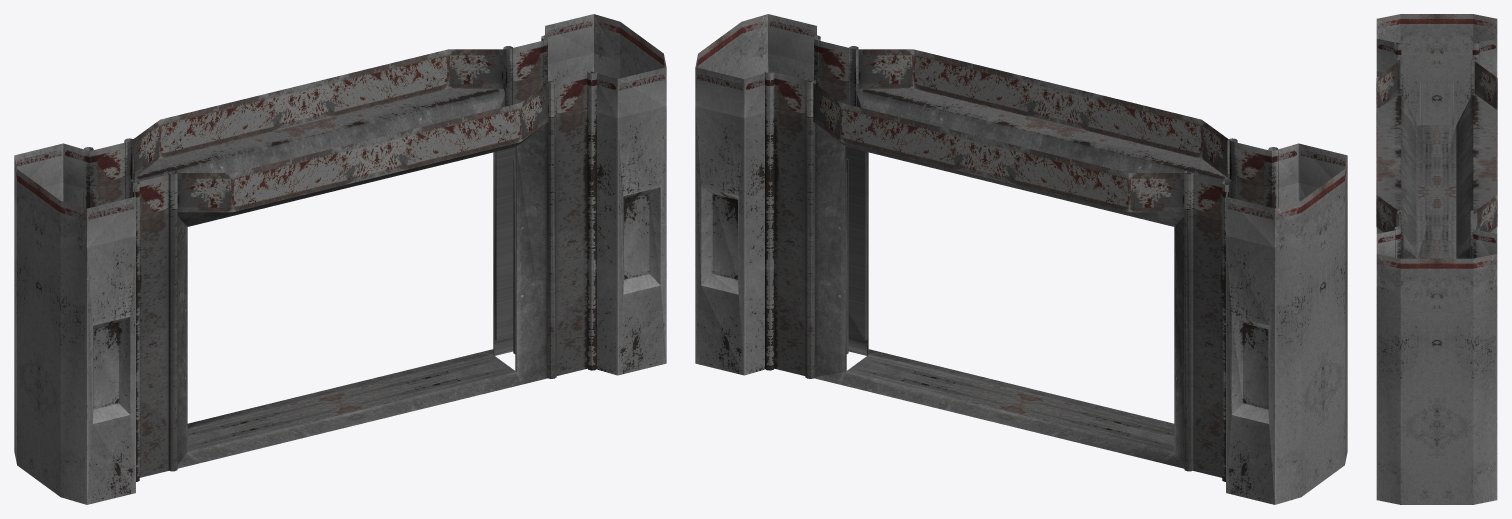
File: Door_Cont.fbx
3 views of the same model, side by side, from view 1: azimuth 30°, elevation 25°; view 2: azimuth 150°, elevation 25°; view 3: azimuth 270°, elevation 25° (orthographic). The views are drawn at different scales.
Visible parts, largest first — view 1: Door_Cont; view 2: Door_Cont; view 3: Door_Cont.
Boxes of the visible parts, <box> form: Door_Cont: <box>14,14,666,504</box>; Door_Cont: <box>695,14,1347,504</box>; Door_Cont: <box>1376,14,1497,504</box>.
Size of the model in its own units: 8.79 by 4.14 by 1.84.
